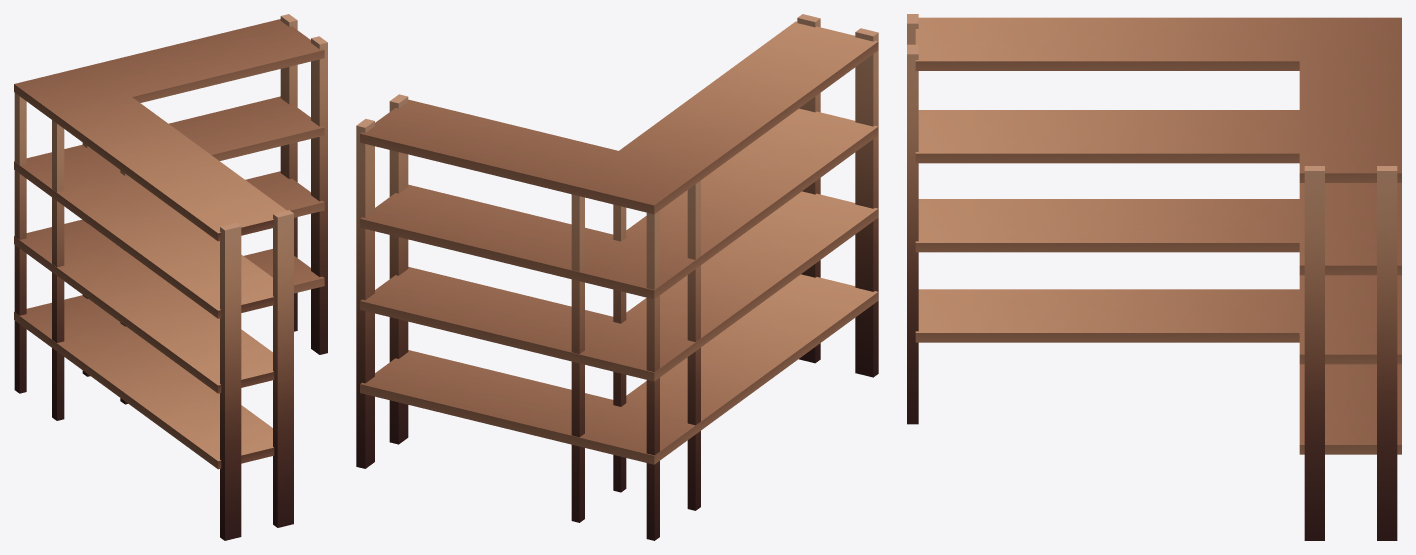
The model's file is SM_thinnedCornerShelf.fbx.
3 views of the same model, side by side, from view 1: azimuth 30°, elevation 25°; view 2: azimuth 150°, elevation 25°; view 3: azimuth 270°, elevation 25° (orthographic). The views are drawn at different scales.
Visible parts, largest first — view 1: door:cornershelf; view 2: door:cornershelf; view 3: door:cornershelf.
Boxes of the visible parts, box(x1,y1,x2,y2) form: door:cornershelf: box(14, 14, 327, 540); door:cornershelf: box(356, 14, 878, 540); door:cornershelf: box(907, 14, 1401, 540).
Bounding box in the file's own units: 1763 × 1916 × 2321.
